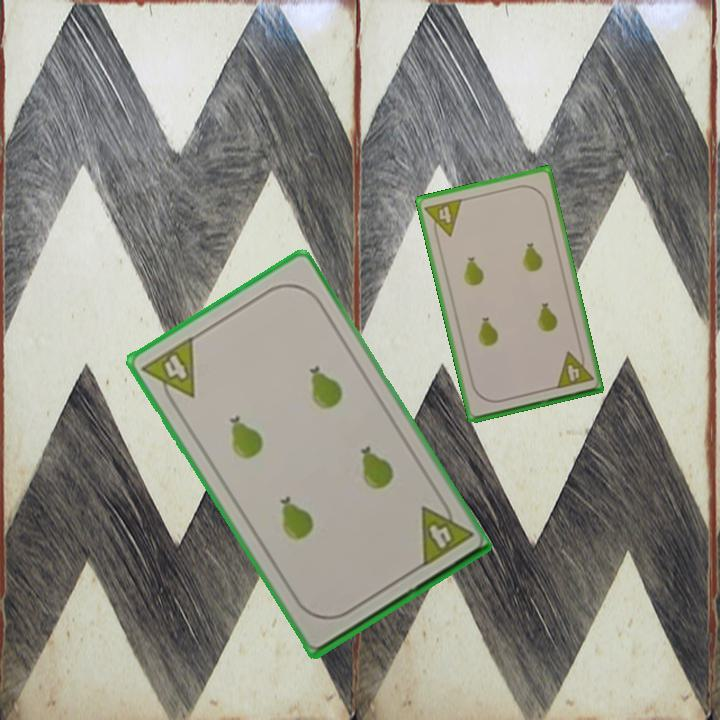4p: (138, 333, 198, 411), (416, 493, 475, 571), (421, 195, 465, 242), (552, 346, 596, 392)
